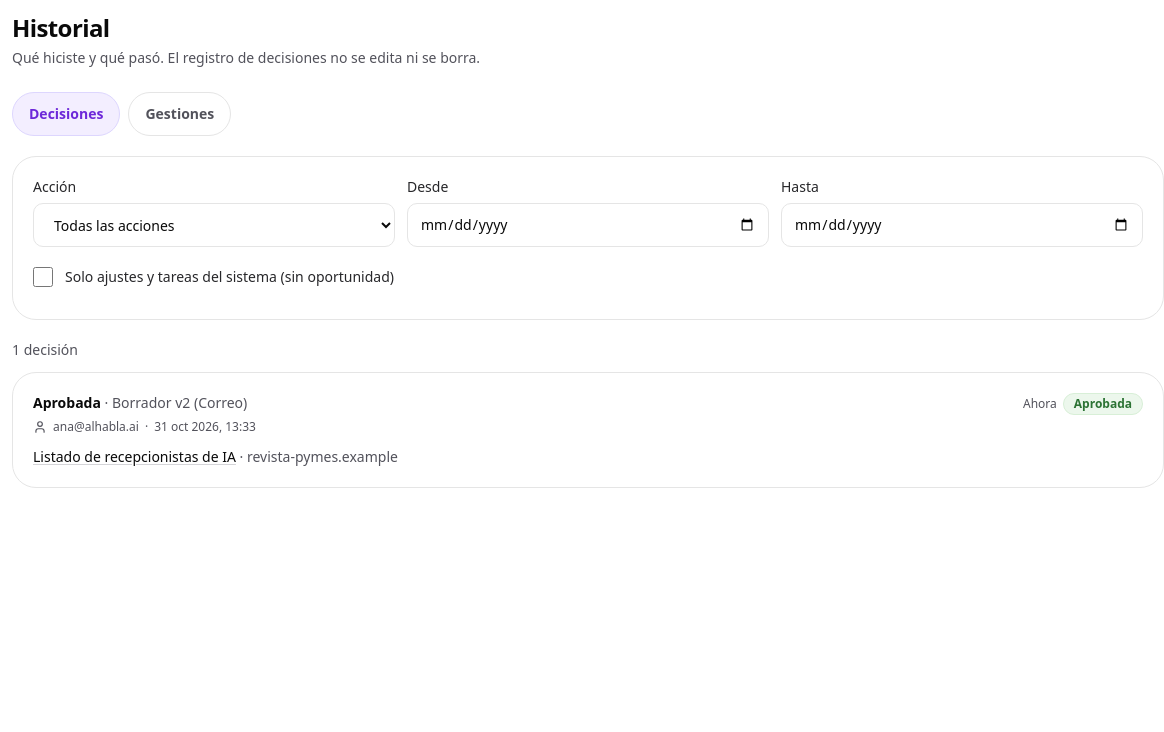
Scenario: Historial · gestiones › enseña canal, dominio, fecha, resultado y la oportunidad
Expected: the list named "Decisiones" is shown, [12, 372, 1163, 488]
Step 1. Click the tab "Gestiones" → (180, 114), box [128, 92, 231, 136]
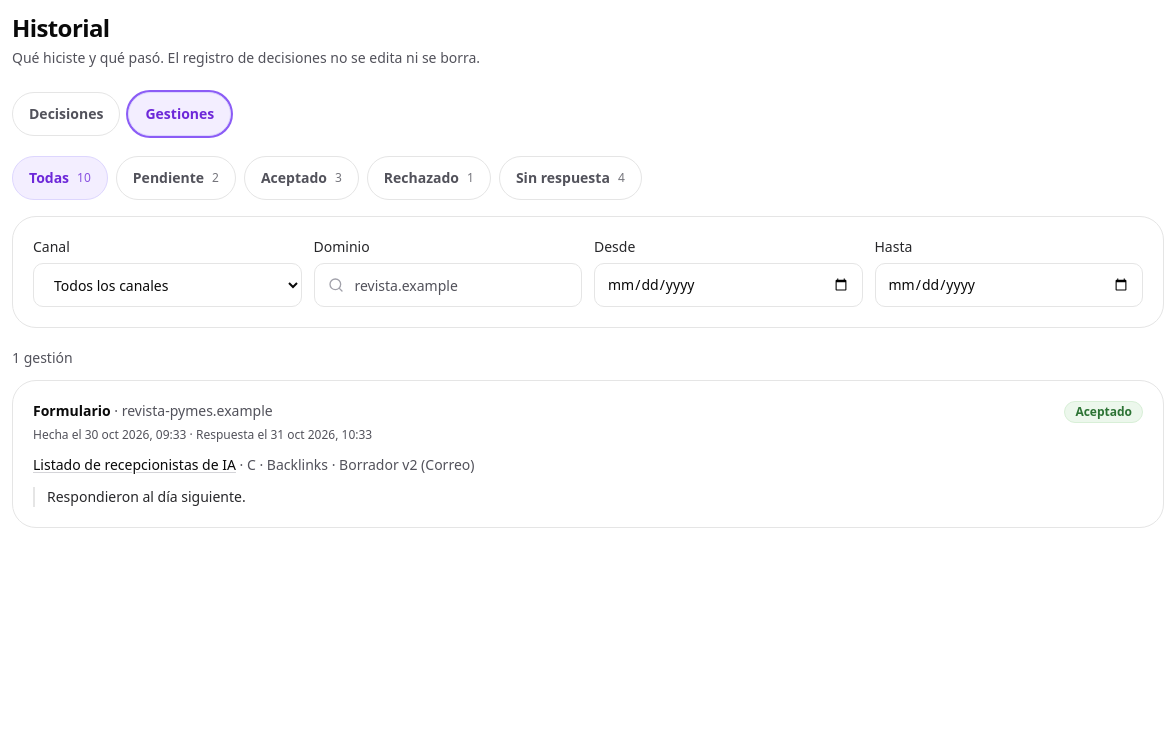
Result: the list item shows "Formulario" at [33, 401, 111, 420]
Result: the list item shows "Aceptado" at [1075, 403, 1132, 420]
Result: the list item shows "Hecha el" at [33, 426, 82, 443]
